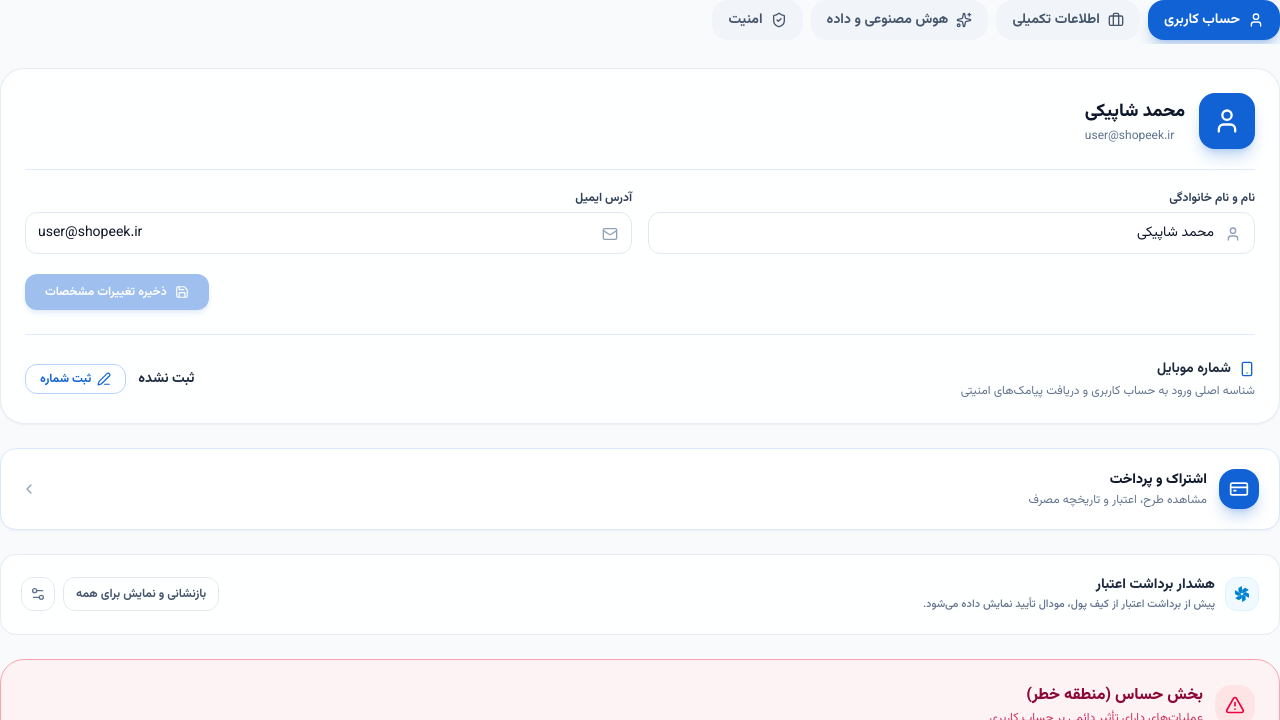
[page] SettingsPage Component & Guide Integration › renders security tab with password, sessions, and telegram guide targets
Check: the heading "محمد شاپیکی" is shown, box [1085,98,1185,126]
Note: Switch to Security tab
Click the button "امنیت": point(758, 20) [712,0,803,40]
(page scrolled)
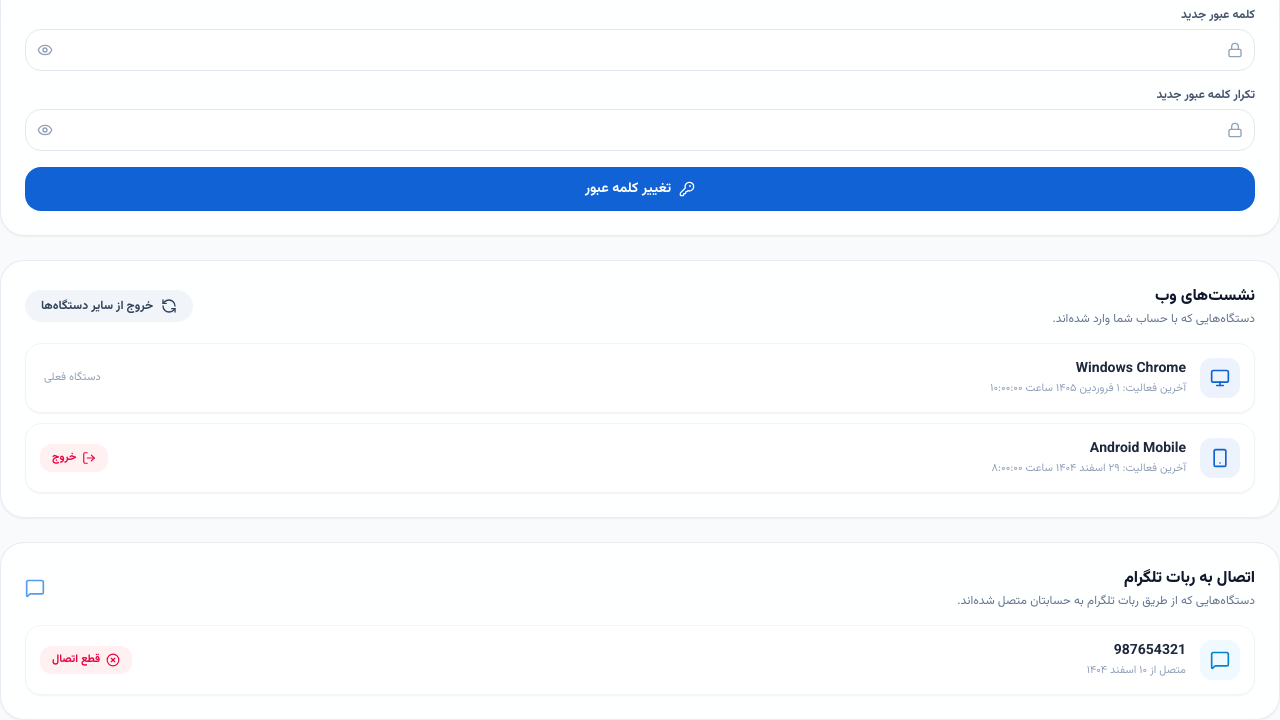
Check: the element that starts with "نشست‌های وب" is shown, box [0,260,1279,518]
Check: the element that starts with "اتصال به ربات تلگرام" is shown, box [0,542,1279,719]
